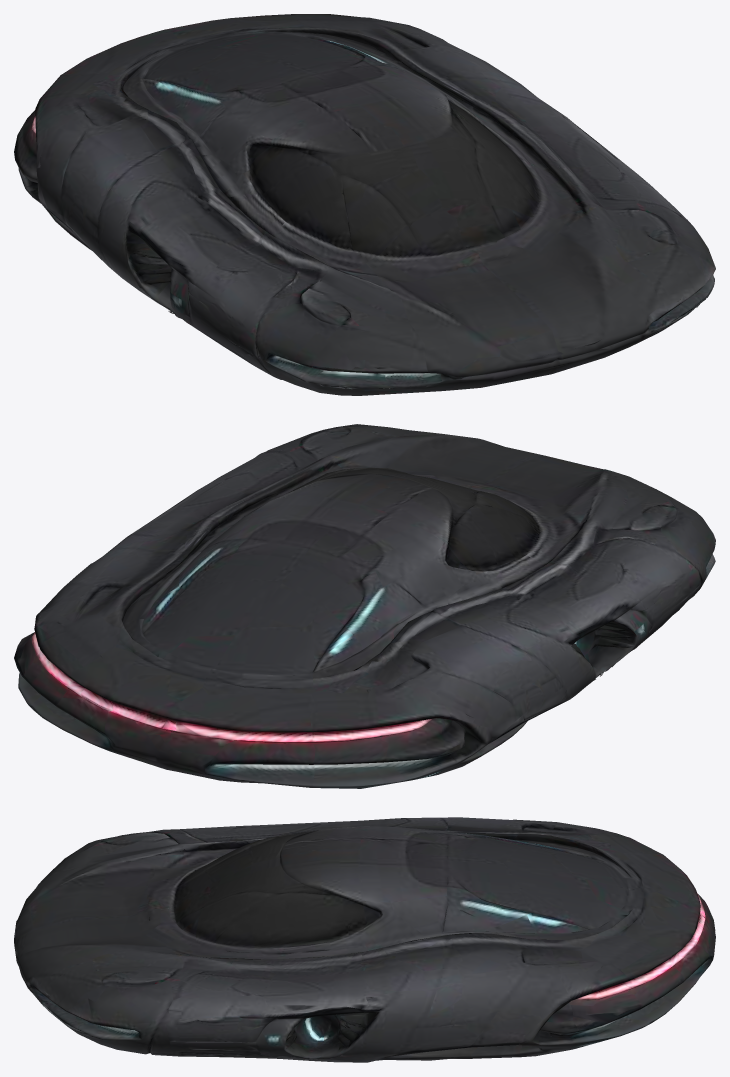
Rendered from car.glb.
3 renders of one model, top to bottom at view 1: azimuth 30°, elevation 25°; view 2: azimuth 150°, elevation 25°; view 3: azimuth 270°, elevation 25°, orthographic. The views are drawn at different scales.
Visible parts, largest first — view 1: SM_car; view 2: SM_car; view 3: SM_car.
Part boxes in pixels (x1,y1,x2,y2): SM_car: (14, 14, 715, 395); SM_car: (14, 424, 715, 788); SM_car: (14, 817, 715, 1062).
Size of the model in its own units: 0.6542 by 0.2125 by 0.9797.
Materials: 1 (1 with a texture image).
